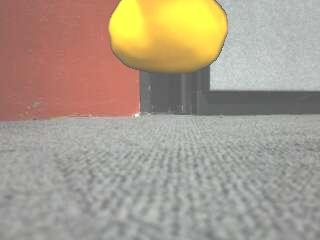Potato: (108, 0, 229, 75)
